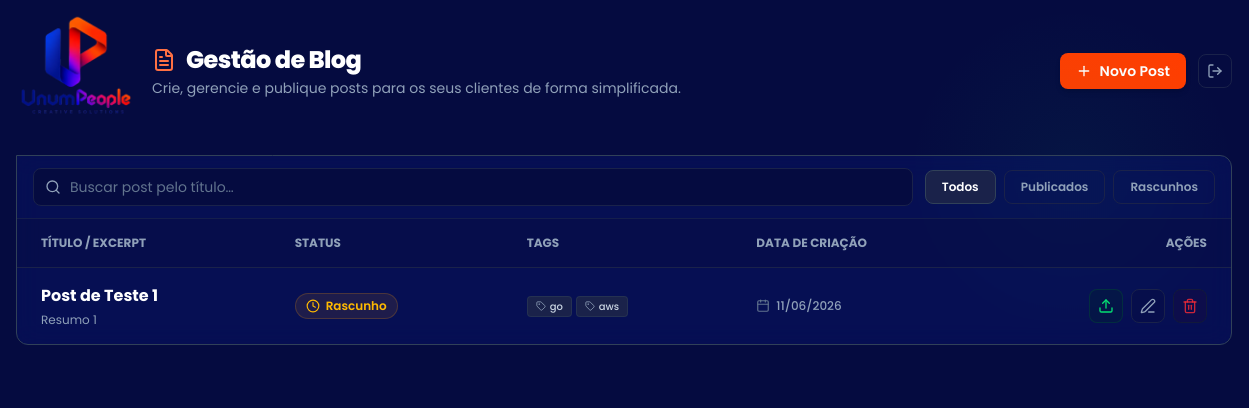
Test: PostsPage › mostra o erro na tela quando publicar falha, em vez de falhar em silêncio
This screenshot has width=1249, height=408.
Expected: the link "Post de Teste 1" is shown, [41,284,158,307]
Click the button titled "Publicar Post": (1106, 306) [1089,289,1123,323]
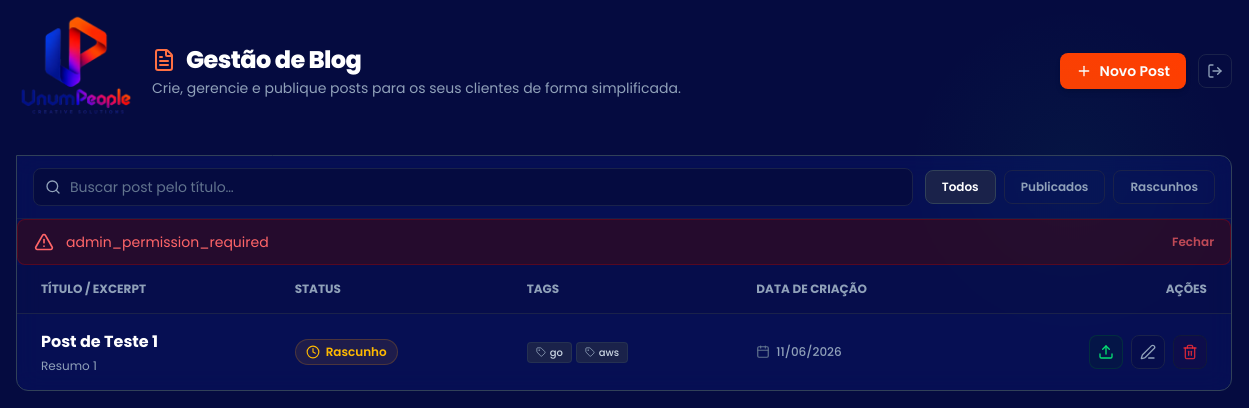
Expected: the message shows "admin_permission_required", [66,232,269,252]
